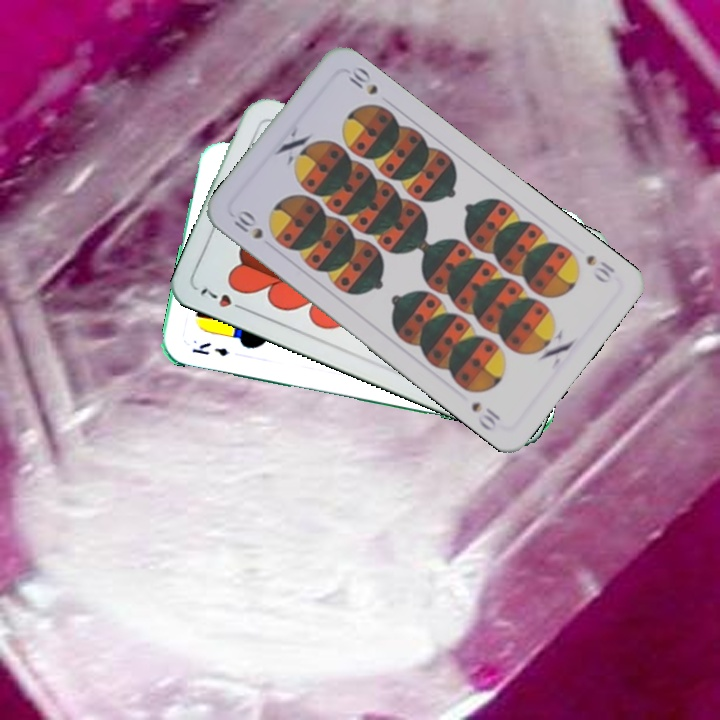EK: (189, 338, 231, 359)
H7: (196, 283, 250, 314)
S10: (229, 206, 266, 242), (582, 250, 618, 286)
